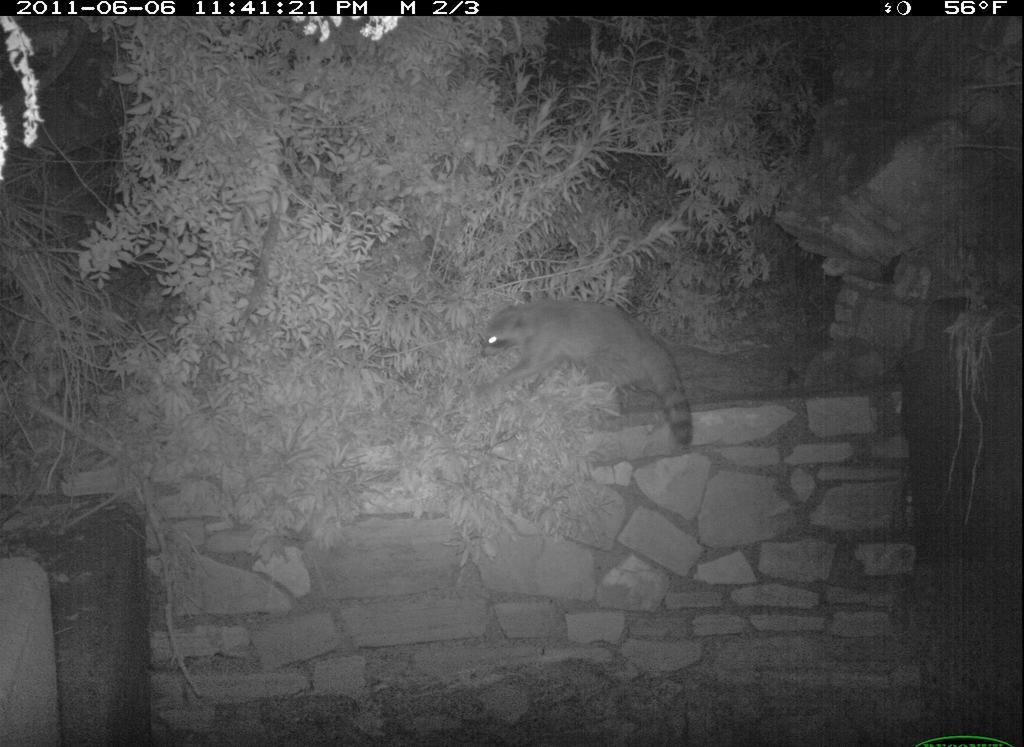raccoon: (468, 292, 705, 456)
